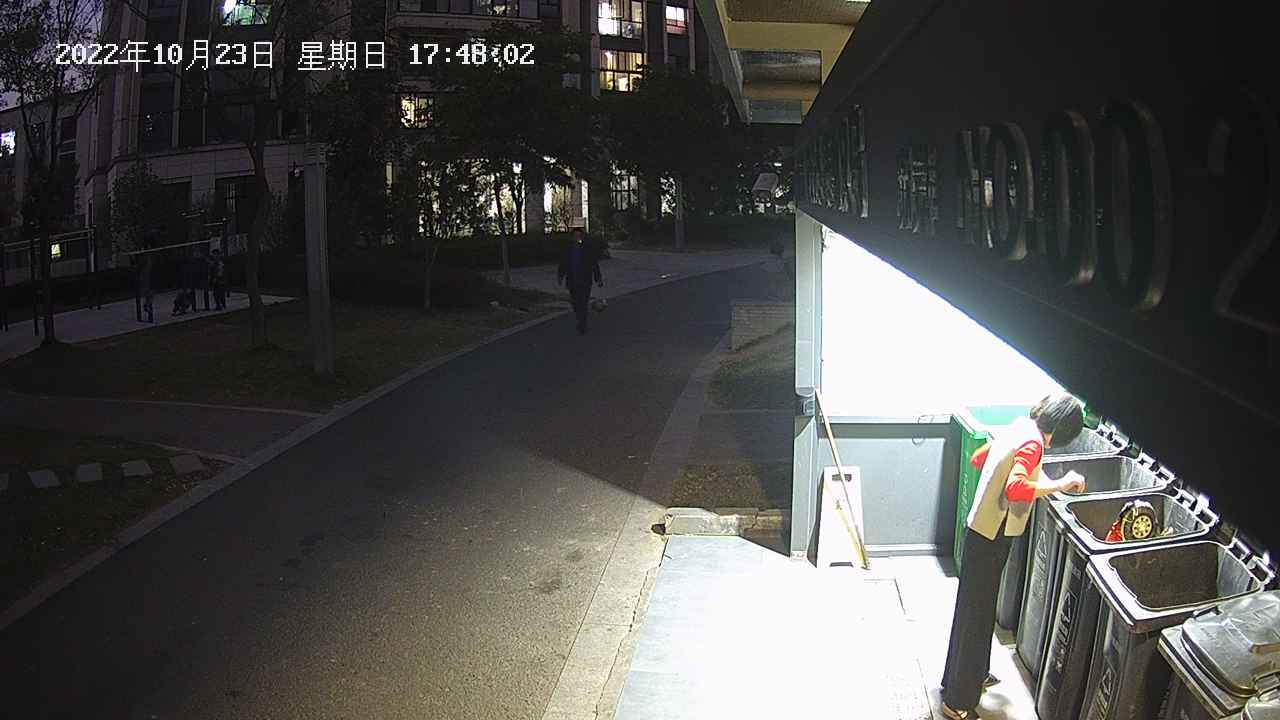garbage-bag: (588, 295, 609, 314)
person: (936, 389, 1089, 720), (554, 227, 608, 337)
